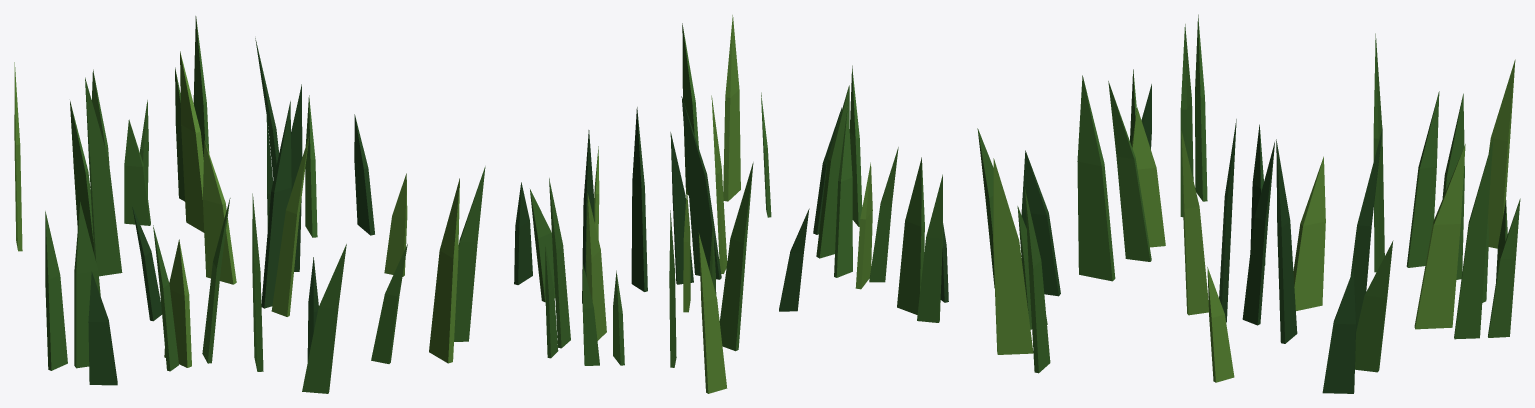
Rendered from grass_clump_d.glb.
3 renders of one model, left to right at view 1: azimuth 30°, elevation 25°; view 2: azimuth 150°, elevation 25°; view 3: azimuth 270°, elevation 25°, orthographic. The views are drawn at different scales.
Parts seen in each view (by area): view 1: Grass_4.003, Grass_3.003, Grass_2.003, Grass_1.003; view 2: Grass_3.003, Grass_1.003, Grass_2.003, Grass_4.003; view 3: Grass_4.003, Grass_2.003, Grass_1.003, Grass_3.003.
Boxes of the visible parts, box(x1,y1,x2,y2) form: Grass_4.003: box(14, 51, 459, 367); Grass_3.003: box(45, 69, 485, 393); Grass_2.003: box(70, 16, 317, 371); Grass_1.003: box(88, 38, 374, 385); Grass_3.003: box(669, 23, 942, 367); Grass_1.003: box(514, 96, 948, 311); Grass_2.003: box(530, 85, 849, 365); Grass_4.003: box(586, 15, 872, 393); Grass_4.003: box(993, 59, 1515, 382); Grass_2.003: box(1077, 33, 1520, 372); Grass_1.003: box(1021, 84, 1382, 393); Grass_3.003: box(977, 14, 1464, 373).
Size of the model in its own units: 1.36 by 0.6819 by 1.51.
